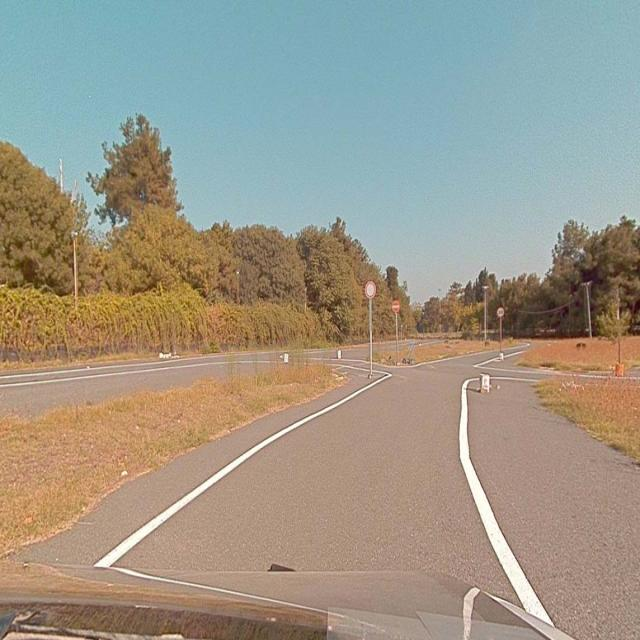girisyok: (392, 300, 399, 312)
